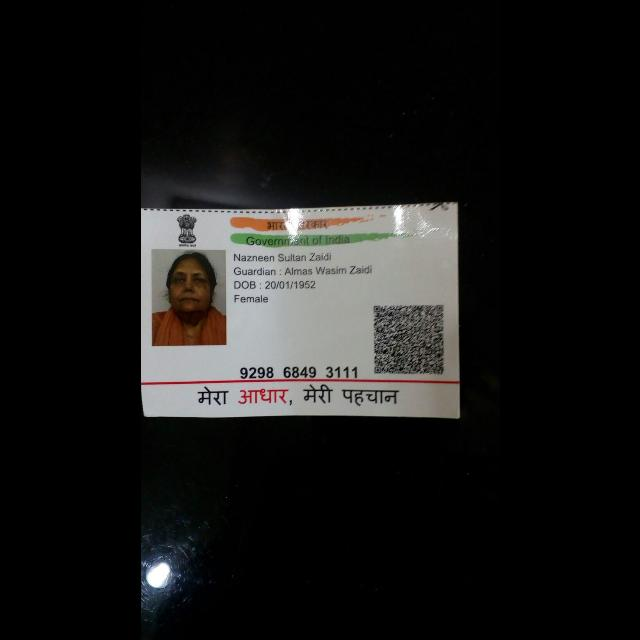aadhaar: (140, 194, 466, 426)
